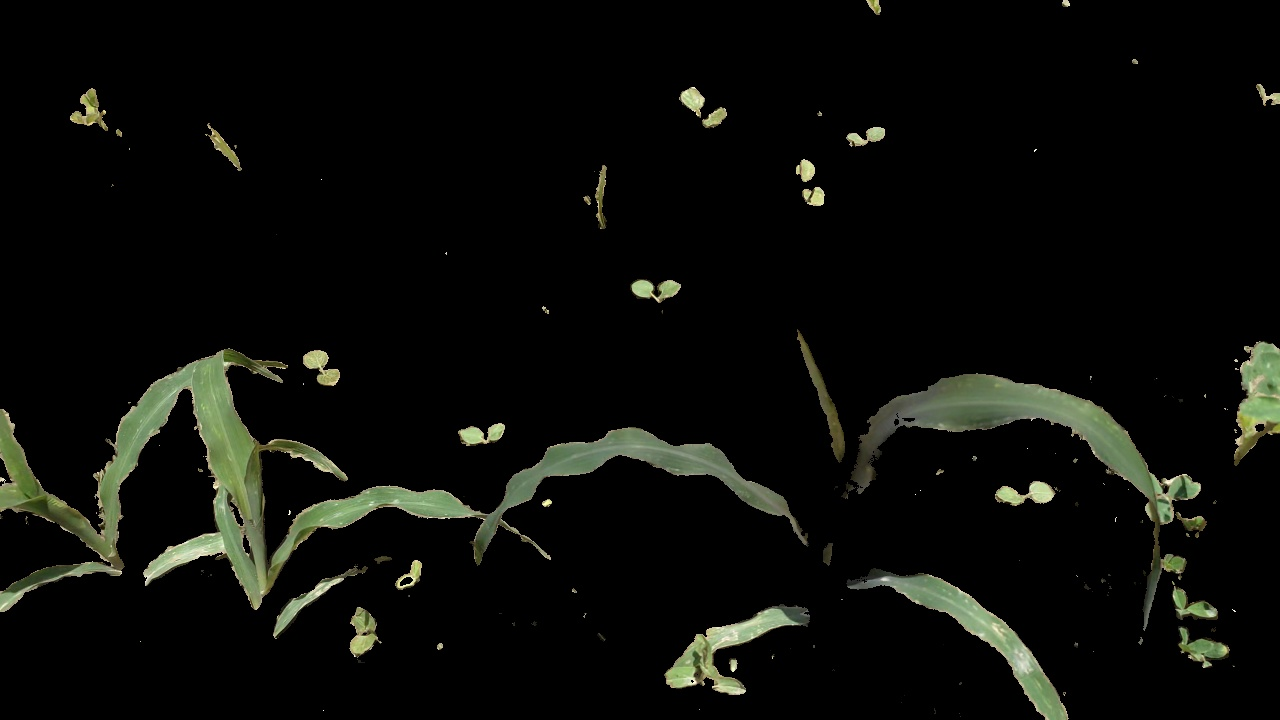crop: (573, 331, 1096, 720), (185, 364, 497, 603), (1, 358, 158, 592)
weed: (1150, 457, 1206, 540), (579, 155, 618, 254), (792, 157, 837, 224), (681, 85, 727, 139), (994, 471, 1053, 513), (69, 85, 119, 132), (347, 605, 388, 654), (396, 551, 446, 591), (626, 267, 688, 299), (299, 349, 347, 386), (455, 416, 512, 445), (1178, 631, 1226, 663), (844, 119, 890, 150), (1171, 586, 1215, 617)
